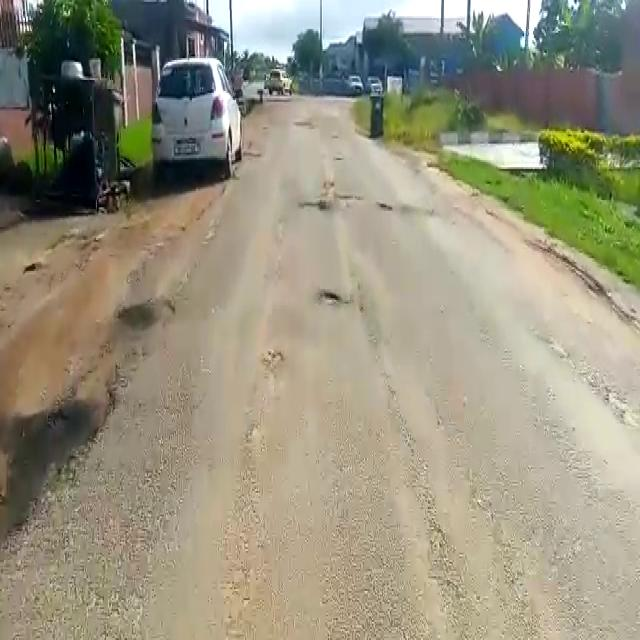Pothole: (317, 289, 349, 308)
